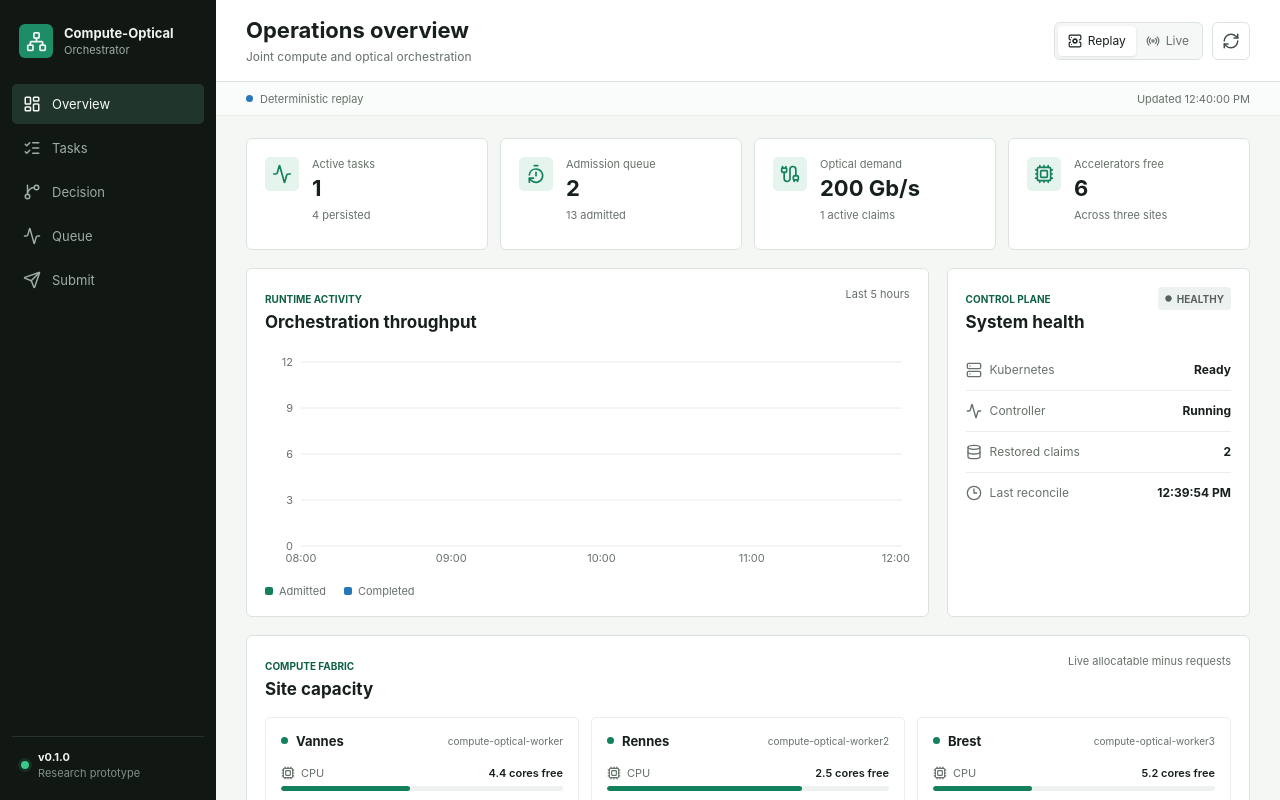
it: Compute-Optical Console › adds a controlled replay task to the admission queue
Click the button "Submit" at (108, 280), box [12,260,204,300]
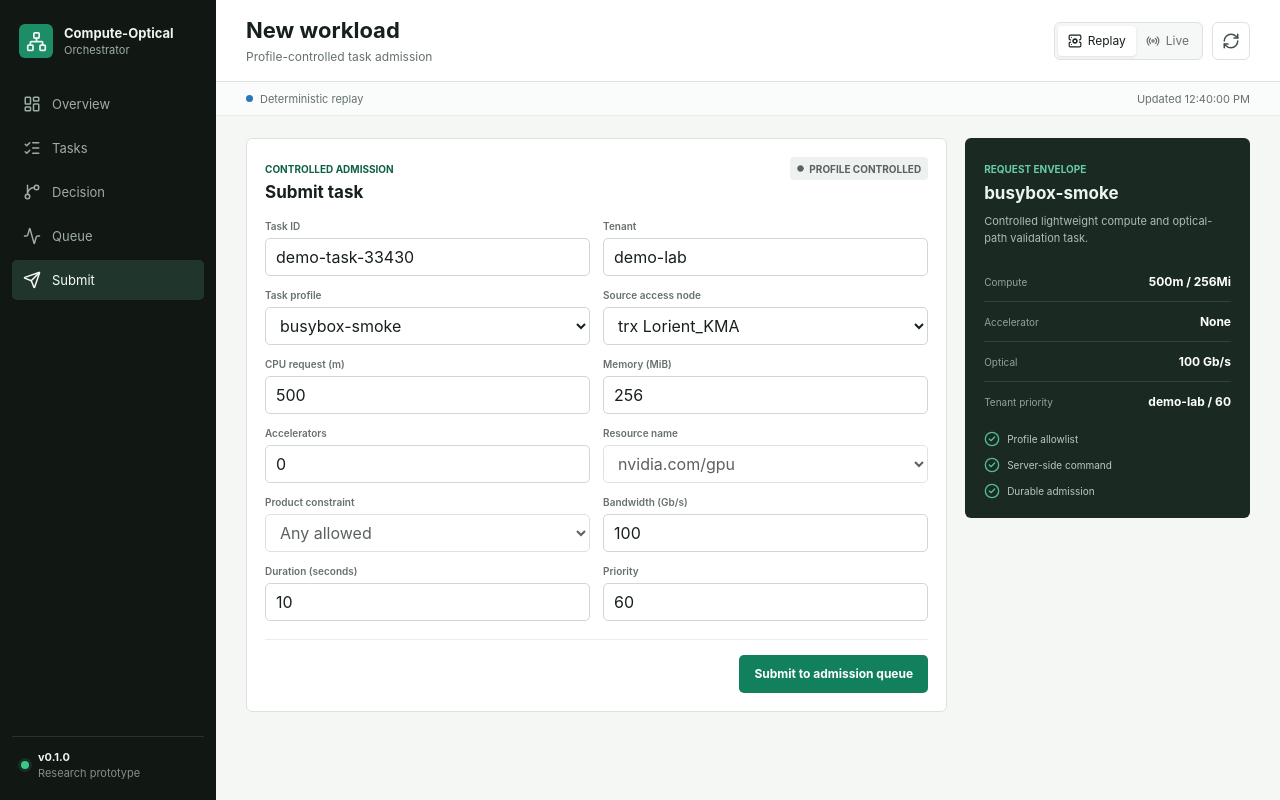
Replace the text in the field labelled "Task ID" with "replay-console-001" at (428, 257), box [265,238,590,276]
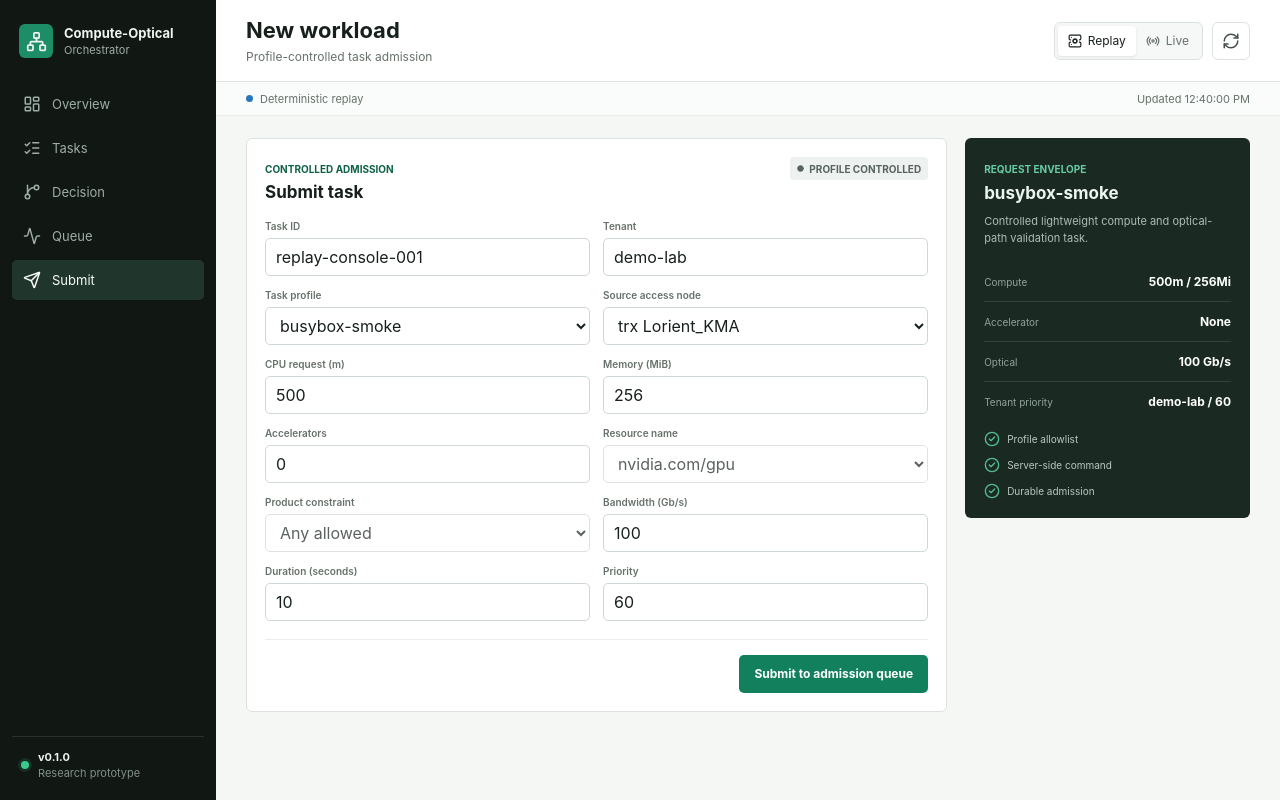
Click the button "Submit to admission queue" at (834, 674), box [739,655,928,693]
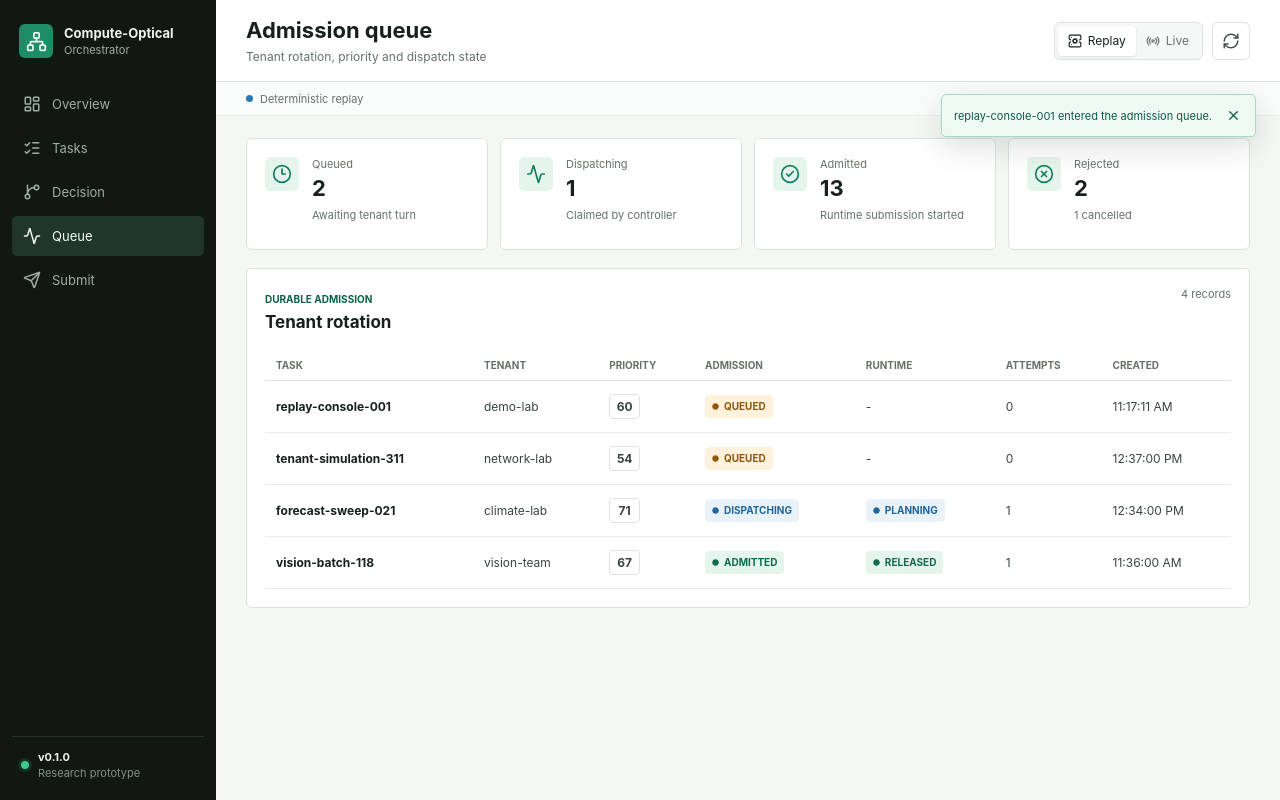
Expected: the text "replay-console-001" is shown, [276,399,391,414]
Expected: the heading "Tenant rotation" is shown, [265,311,391,334]
